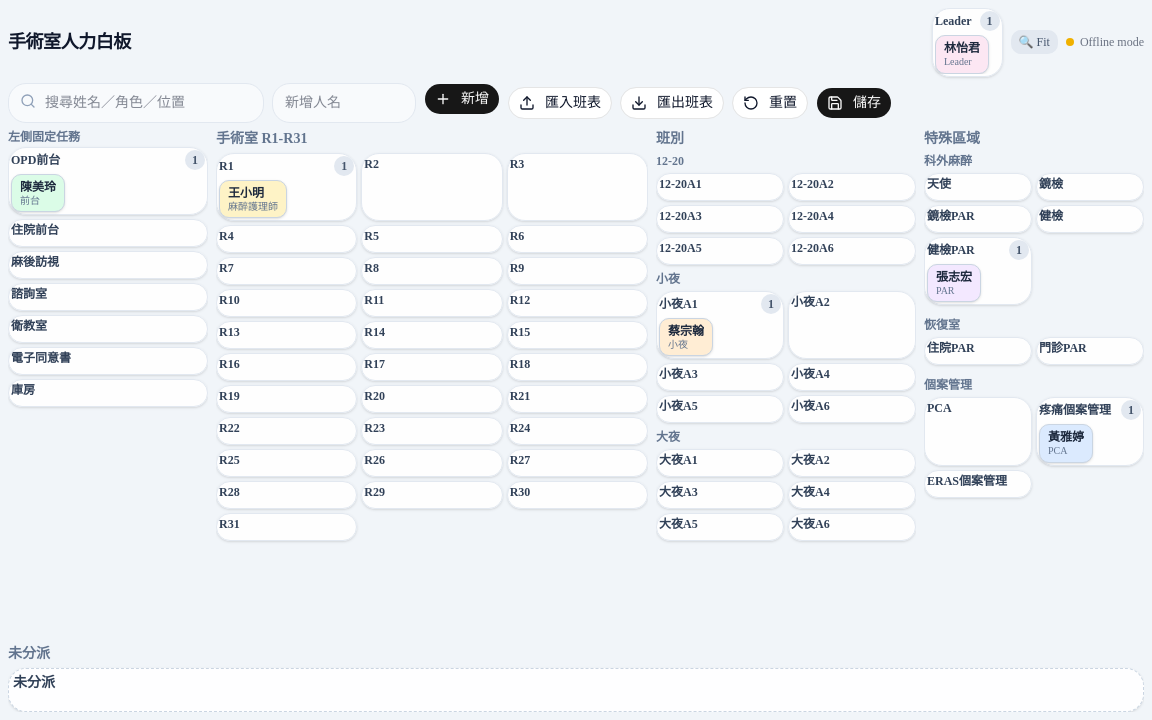
Test: Board › reset restores initial state
The image size is (1152, 720).
Step 1. Type "臨時人員" into the field with placeholder "新增人名" → [344, 102], box [272,82,416,122]
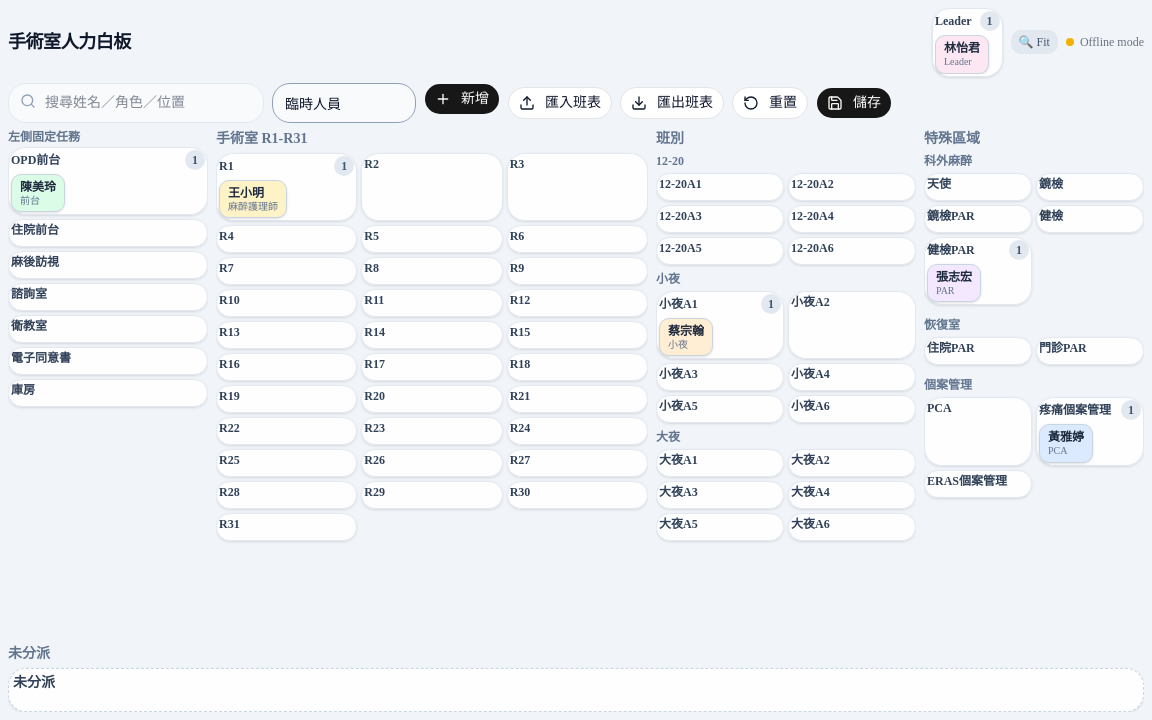
Step 2. Click the button "新增" → [462, 98], box [424,82,500,114]
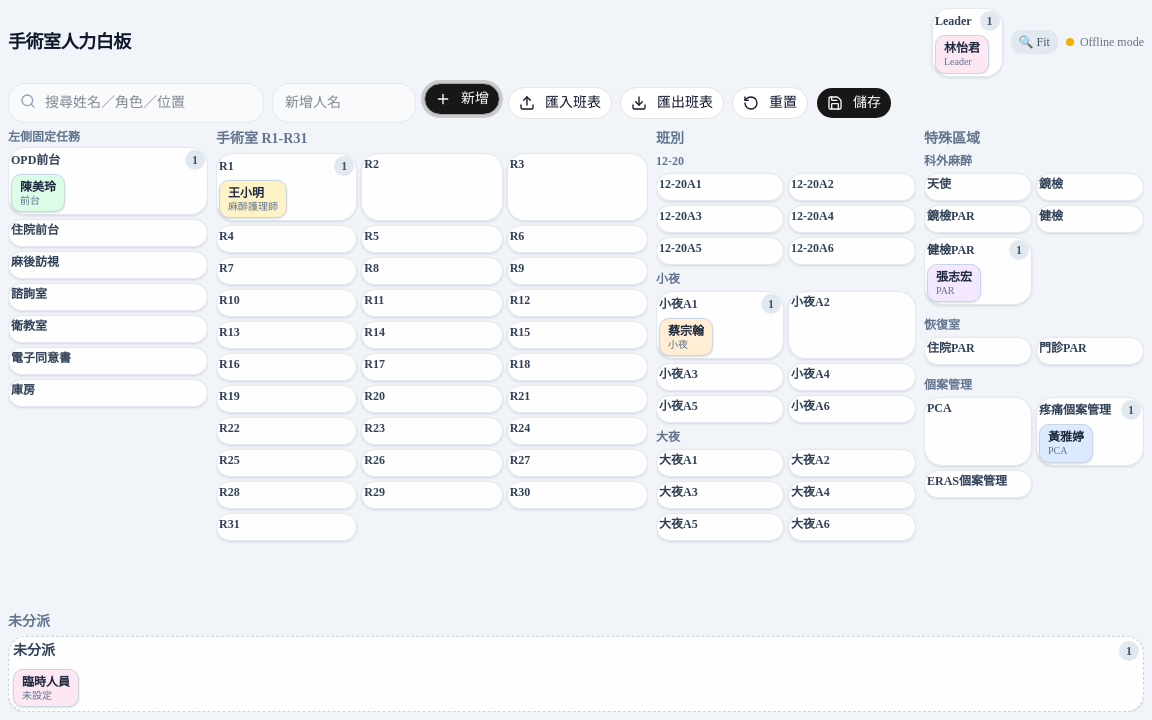
Expected: the text "臨時人員" is shown, [22,674,70,690]
Step 3. Click the button "重置" → [770, 102], box [732,86,808,118]
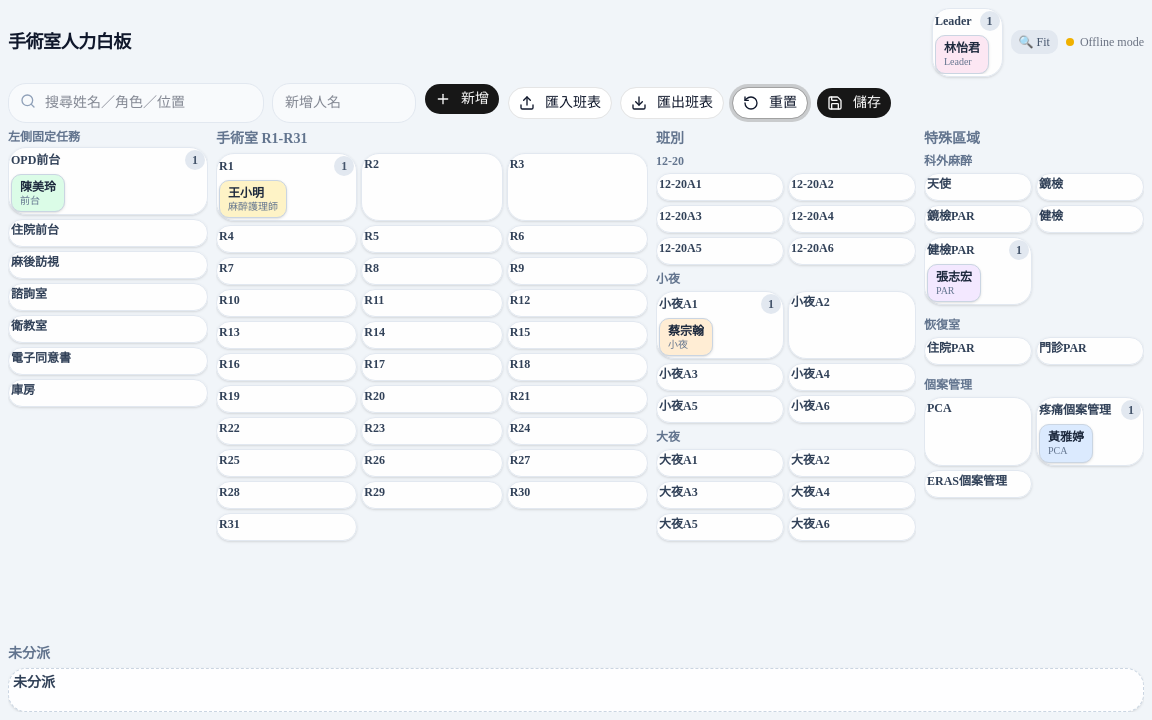
Expected: the text "王小明" is shown, [228,186,264,200]
Expected: the button "臨時人員" is gone
